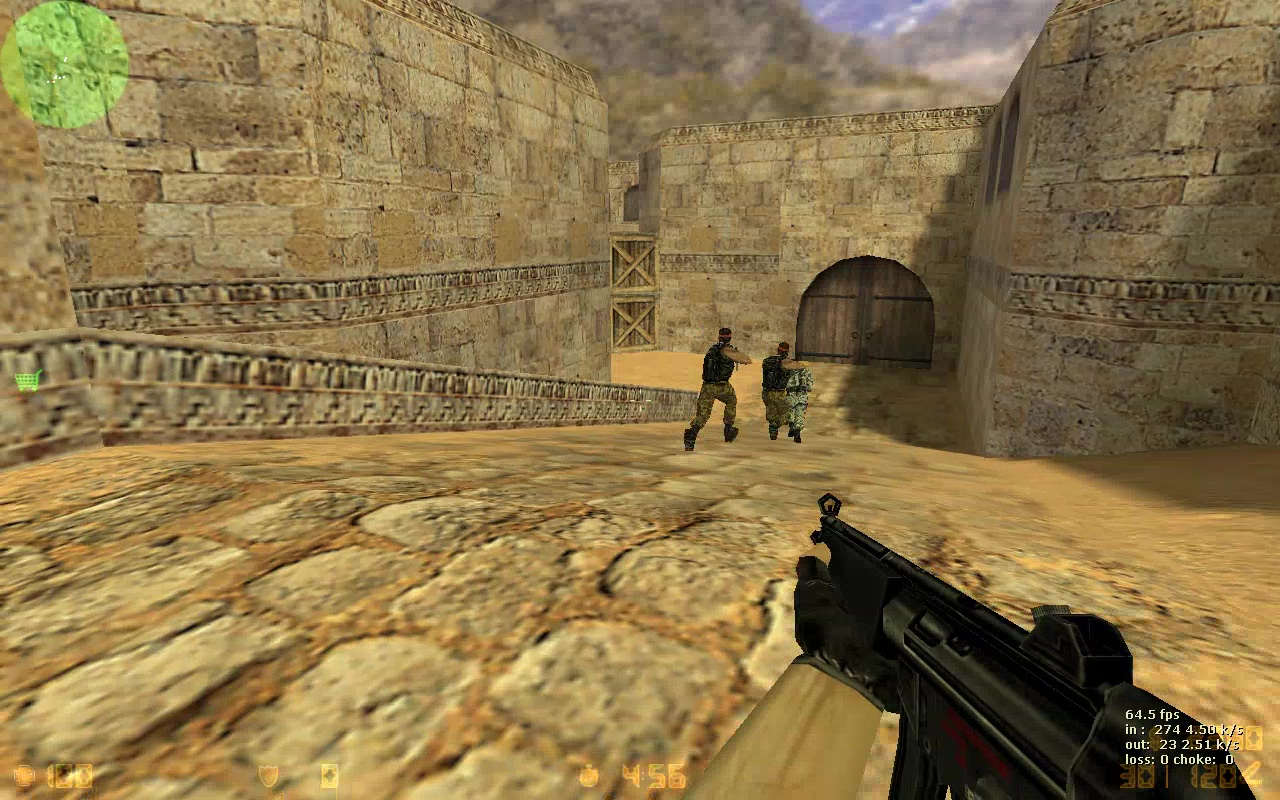terr1: (683, 330, 750, 451), (762, 343, 792, 443)
terr2: (786, 364, 810, 437)
